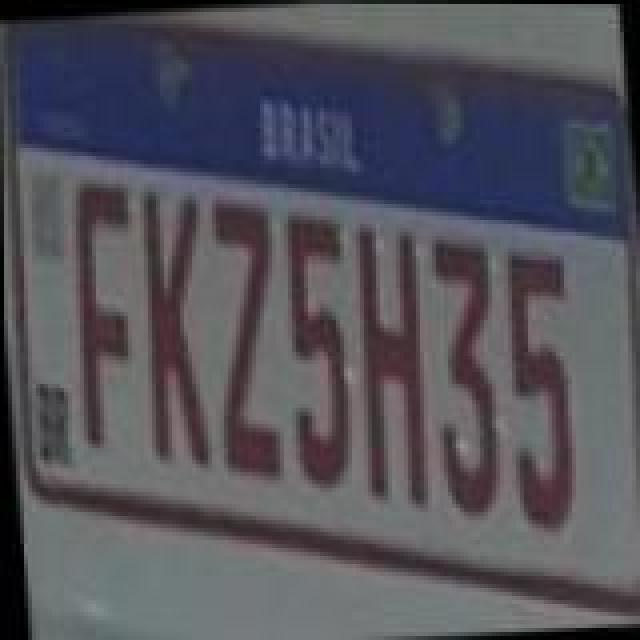3: (422, 230, 514, 522)
5: (496, 244, 588, 540), (272, 208, 360, 492)
F: (64, 176, 152, 448)
H: (342, 220, 434, 516)
K: (130, 182, 222, 474)
Z: (198, 192, 290, 488)
